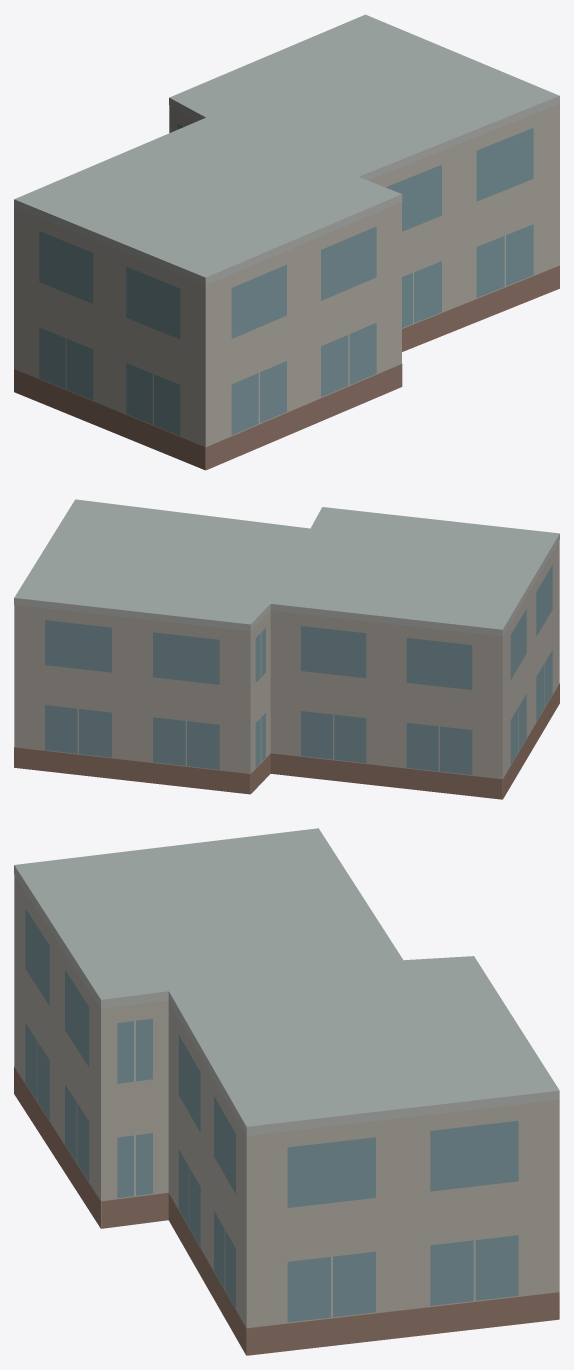
The model's file is survey-upis-32902679.glb.
The picture shows the model from 3 angles, top to bottom: view 1: azimuth 30°, elevation 25°; view 2: azimuth 150°, elevation 25°; view 3: azimuth 270°, elevation 25°; orthographic projection. The views are drawn at different scales.
Visible parts, largest first — view 1: survey-upis-32902679.tmp; view 2: survey-upis-32902679.tmp; view 3: survey-upis-32902679.tmp.
Part boxes in pixels (x1,y1,x2,y2): survey-upis-32902679.tmp: [14, 14, 559, 470]; survey-upis-32902679.tmp: [14, 499, 559, 799]; survey-upis-32902679.tmp: [14, 828, 559, 1355].
Size of the model in its own units: 17.08 by 6.1 by 13.19.
